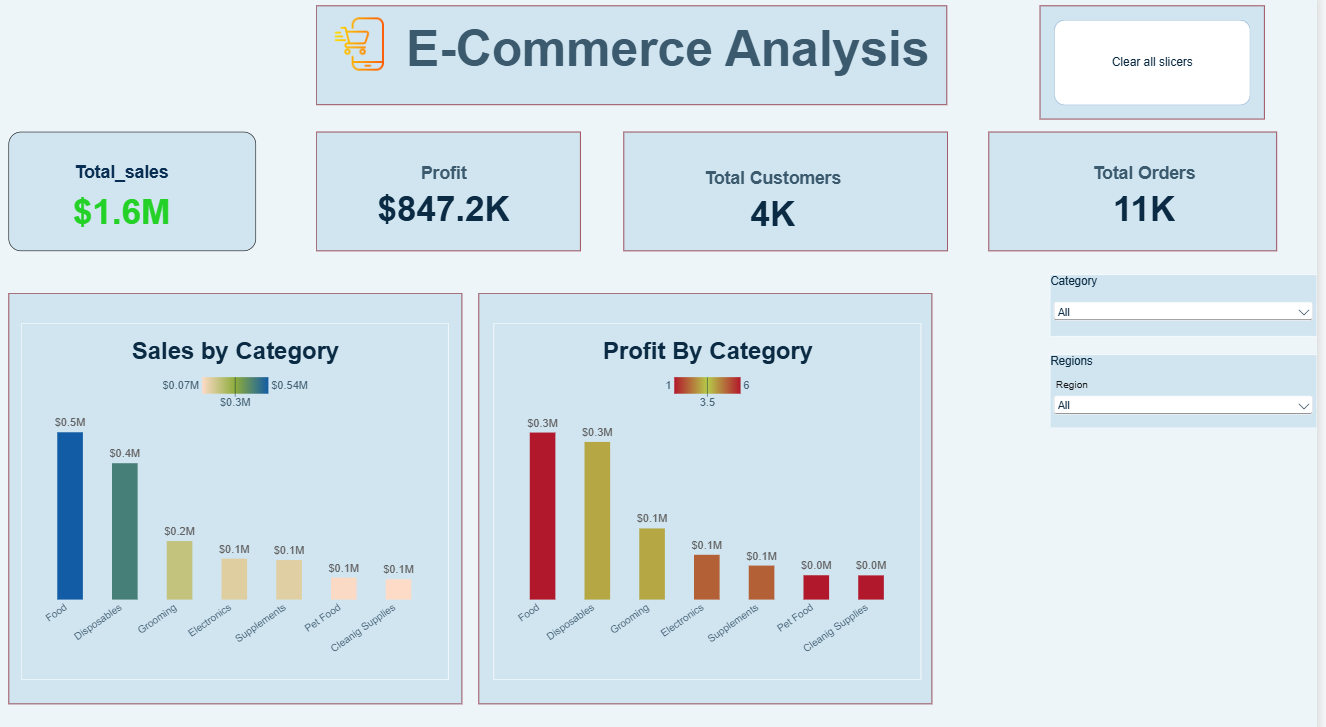

This screenshot's page, from the dashboard's own definition file:
{"tool":"powerbi","page":{"name":"Home","canvas":[1920,1080],"ordinal":0},"visuals":[{"type":"shape","box":[471.4,18.5,913.9,144.1],"z":0},{"type":"textbox","box":[601,39.1,953,123.5],"z":1000},{"type":"image","box":[471.4,8.2,127.6,129.7],"z":2000},{"type":"shape","box":[24.7,201.7,358.1,172.9],"z":4000},{"type":"cardVisual","title":"Total  Sales","fields":{"Data":["Meaures.Total_sales"]},"box":[0,213.3,378.7,142],"z":5000},{"type":"shape","box":[471.4,201.7,382.8,172.9],"z":6000},{"type":"shape","box":[1444.9,201.7,417.8,172.9],"z":7000},{"type":"shape","box":[916,201.7,469.3,172.9],"z":8000},{"type":"cardVisual","fields":{"Data":["Meaures.Profit"]},"box":[471.7,211.7,366.4,142],"z":9000},{"type":"cardVisual","title":"Total  Sales","fields":{"Data":["Meaures.Total Customers"]},"box":[980,218.3,302.6,142],"z":10000},{"type":"cardVisual","title":"Total  Sales","fields":{"Data":["Meaures.Total Orders"]},"box":[1519,201.7,302.6,162.6],"z":11000},{"type":"slicer","title":"Regions","fields":{"Values":["dim_region.Region"]},"box":[1533.5,522.8,387,107],"z":12000},{"type":"slicer","title":"Category","fields":{"Values":["dim_products.Category"]},"box":[1533.5,407.5,387,90.6],"z":13000},{"type":"actionButton","box":[1519,18.5,325.2,164.7],"z":14000},{"type":"shape","box":[24.7,434.3,656.6,594.9],"z":15000},{"type":"columnChart","title":"Sales by Category","fields":{"Category":["dim_products.Category"],"Y":["Meaures.Total_sales"]},"box":[43.2,477.5,619.6,516.6],"z":16000},{"type":"shape","box":[706,434.3,656.6,594.9],"z":17000},{"type":"columnChart","title":"Profit By Category","fields":{"Category":["dim_products.Category"],"Y":["Meaures.Profit"]},"box":[726.6,477.5,619.6,516.6],"z":18000}]}

Visuals, with their boxes in screenshot pixels (x1, y1, x2, y2), scaled from the page's 1920x1080 canvas onto the 1326x727 screenshot:
shape: {"x1": 326, "y1": 12, "x2": 957, "y2": 109}
textbox: {"x1": 415, "y1": 26, "x2": 1073, "y2": 109}
image: {"x1": 326, "y1": 6, "x2": 414, "y2": 93}
shape: {"x1": 17, "y1": 136, "x2": 264, "y2": 252}
"Total  Sales" cardVisual: {"x1": 0, "y1": 144, "x2": 262, "y2": 239}
shape: {"x1": 326, "y1": 136, "x2": 590, "y2": 252}
shape: {"x1": 998, "y1": 136, "x2": 1286, "y2": 252}
shape: {"x1": 633, "y1": 136, "x2": 957, "y2": 252}
cardVisual - Meaures.Profit: {"x1": 326, "y1": 143, "x2": 579, "y2": 238}
"Total  Sales" cardVisual: {"x1": 677, "y1": 147, "x2": 886, "y2": 243}
"Total  Sales" cardVisual: {"x1": 1049, "y1": 136, "x2": 1258, "y2": 245}
"Regions" slicer: {"x1": 1059, "y1": 352, "x2": 1325, "y2": 424}
"Category" slicer: {"x1": 1059, "y1": 274, "x2": 1325, "y2": 335}
actionButton: {"x1": 1049, "y1": 12, "x2": 1274, "y2": 123}
shape: {"x1": 17, "y1": 292, "x2": 471, "y2": 693}
"Sales by Category" columnChart: {"x1": 30, "y1": 321, "x2": 458, "y2": 669}
shape: {"x1": 488, "y1": 292, "x2": 941, "y2": 693}
"Profit By Category" columnChart: {"x1": 502, "y1": 321, "x2": 930, "y2": 669}
